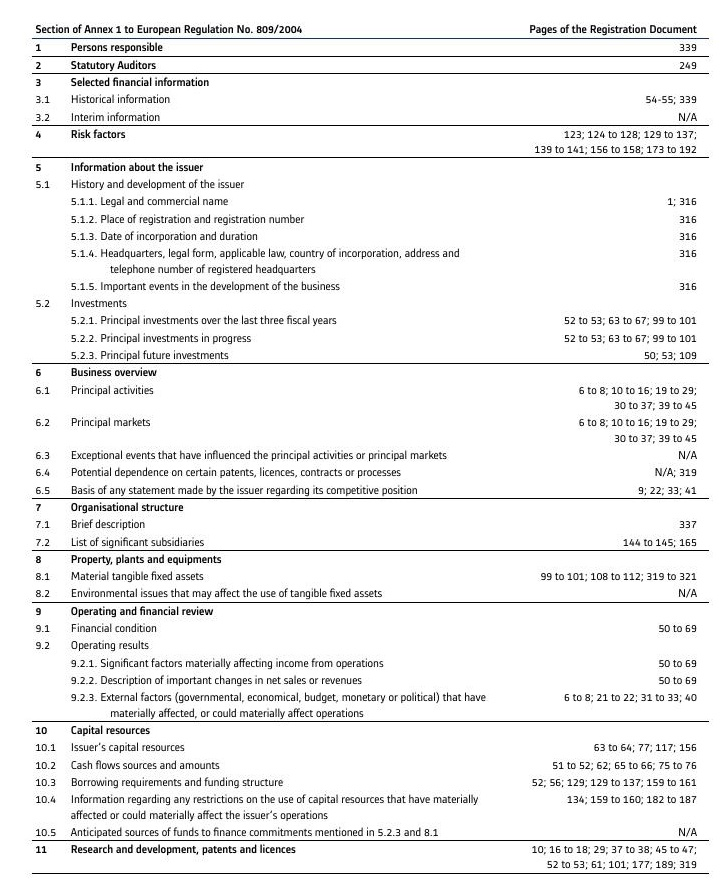table: (0, 0, 728, 894)
